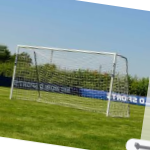goals: (8, 42, 131, 118)
